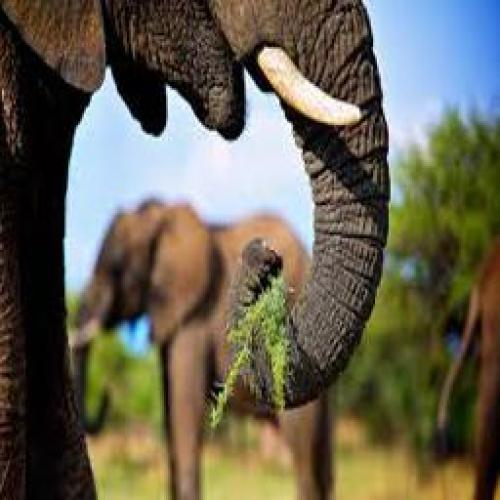african_elephant-endangered: (0, 0, 390, 500), (72, 204, 337, 500), (433, 248, 500, 500)
